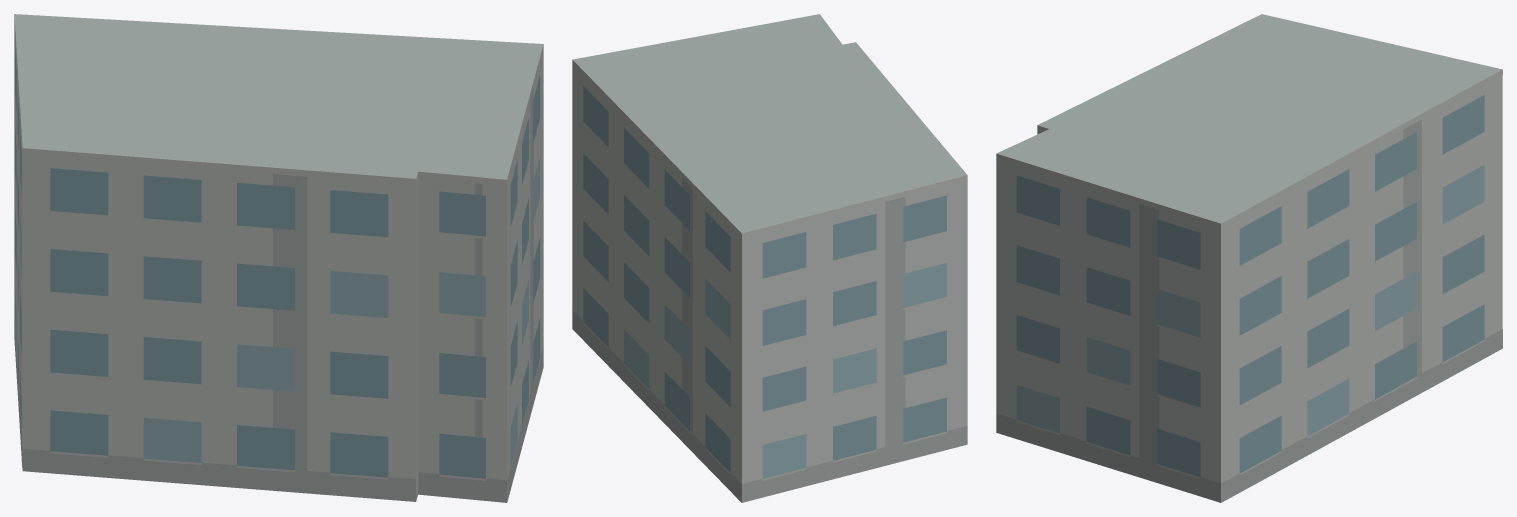
Rendered from residential-b447afe9-a7e9-43fd-90cd-982666a1818b.glb.
3 renders of one model, left to right at view 1: azimuth 30°, elevation 25°; view 2: azimuth 150°, elevation 25°; view 3: azimuth 270°, elevation 25°, orthographic. The views are drawn at different scales.
Visible parts, largest first — view 1: residential-b447afe9-a7e9-43fd-90cd-982666a1818b.tmp; view 2: residential-b447afe9-a7e9-43fd-90cd-982666a1818b.tmp; view 3: residential-b447afe9-a7e9-43fd-90cd-982666a1818b.tmp.
Boxes of the visible parts, box(x1,y1,x2,y2) form: residential-b447afe9-a7e9-43fd-90cd-982666a1818b.tmp: box(14, 14, 543, 502); residential-b447afe9-a7e9-43fd-90cd-982666a1818b.tmp: box(572, 14, 967, 502); residential-b447afe9-a7e9-43fd-90cd-982666a1818b.tmp: box(996, 14, 1502, 502).
Bounding box in the file's own units: 19.67 × 12.2 × 20.07.
